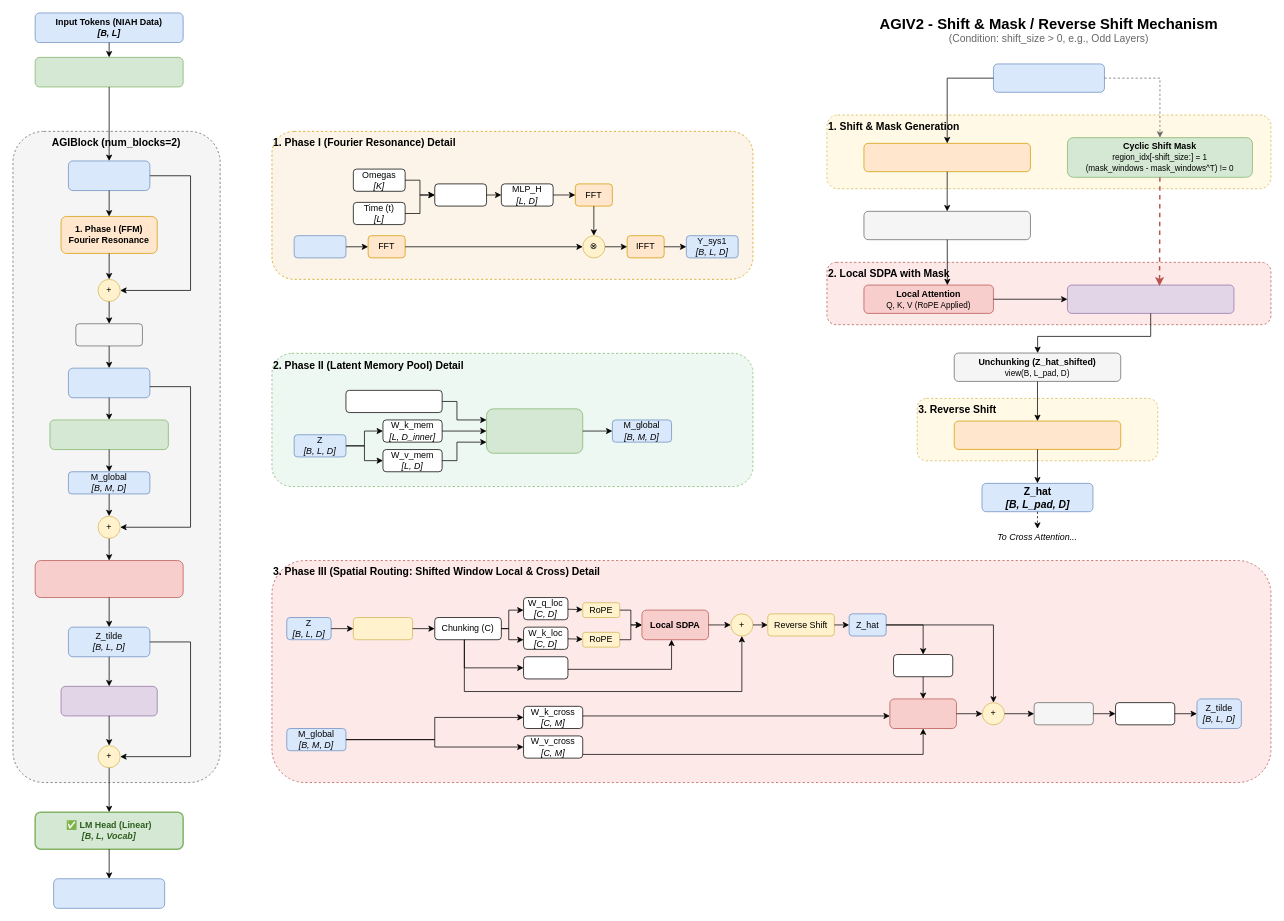
This 1284x921 diagram has some shape labels left out. The centre of each missing label's shape, as x and y in pixels:
2. Phase II Latent Memory Pool: point (108, 434)
3. Phase III Spatial Routing (SW-MSA): point (108, 579)
Attention (Softmax(QK^T)V): point (534, 430)
Cross SDPA: point (922, 713)
Embedding (Vocab=32) [B, L, D]: point (108, 72)
Feed Forward (FFN) [B, L, D]: point (108, 701)
Input Z [B, L_pad, D]: point (1048, 77)
Layer Input (X) [B, L, D]: point (109, 175)
LayerNorm 1: point (108, 334)
LayerNorm 2: point (1063, 713)
Learnable q_mem [M, D_inner]: point (393, 401)
Left Shift (Z_shifted) torch.roll(Z, shifts=-C/2, dims=1): point (946, 157)
Logits (Needle Prediction): point (109, 893)
Mask Fill masked_fill(attn_mask, -inf): point (1150, 298)
Right Shift (Reverse) torch.roll(..., shifts=+C/2, dims=1): point (1037, 434)
Shift & Mask: point (383, 628)
sin / cos (gamma): point (460, 194)
Strict Chunking (Z_chunked) view(B, N, C, D): point (946, 225)
Unchunking: point (1145, 713)
W_q_cross [C, D]: point (923, 665)
W_v_loc [C, D]: point (545, 667)
X [B, L, D]: point (319, 246)
Z Tensor [B, L, D]: point (109, 382)
